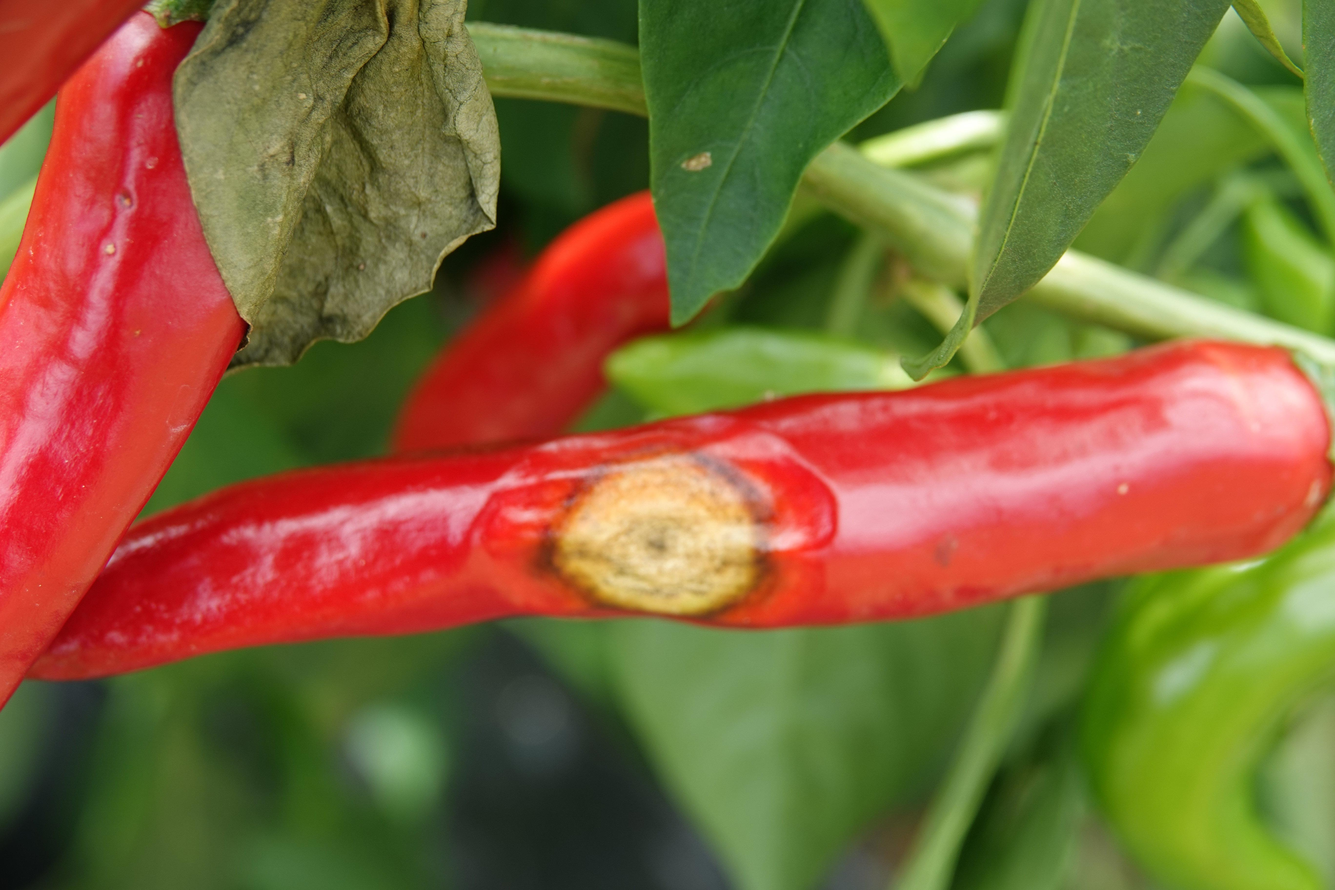Busuk Buah Antraknosa: (18, 332, 1332, 693)
